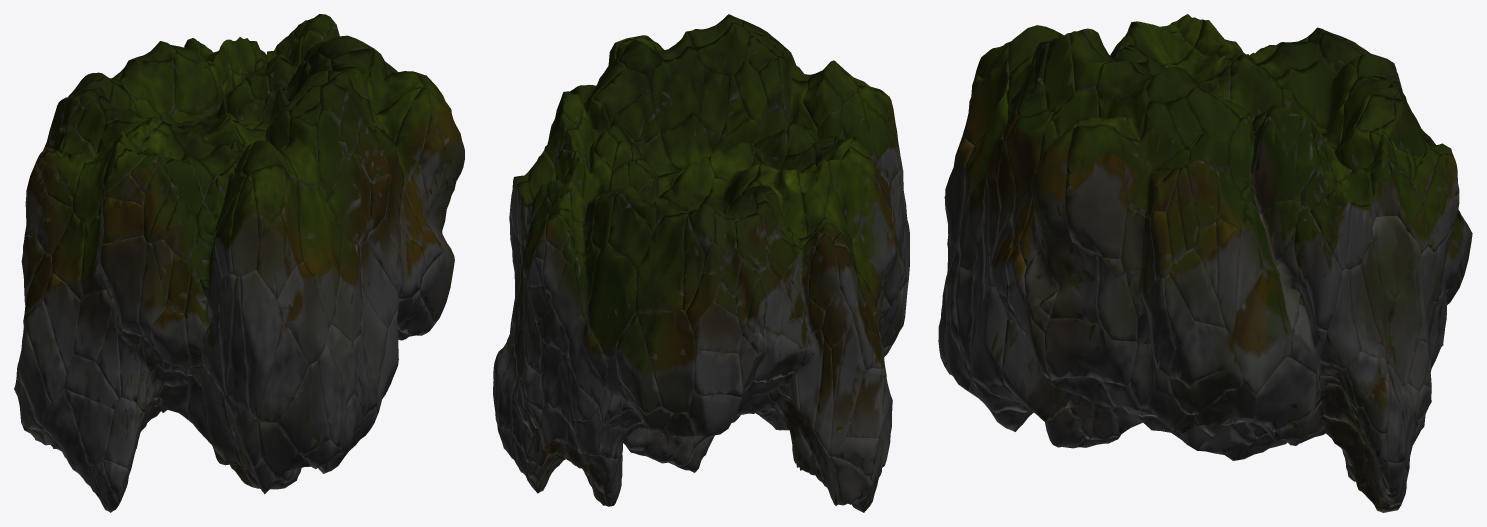
File: generic_island_6.fbx
3 renders of one model, left to right at view 1: azimuth 30°, elevation 25°; view 2: azimuth 150°, elevation 25°; view 3: azimuth 270°, elevation 25°, orthographic. The views are drawn at different scales.
Parts seen in each view (by area): view 1: rock_cell.282, rock_cell.058, rock_cell.054, rock_cell.347, rock_cell.105, rock_cell.184, rock_cell.310, rock_cell.384, rock_cell.324, rock_cell.330, rock_cell.292, rock_cell.144 (+107 smaller); view 2: rock_cell.179, rock_cell.035, rock_cell.311, rock_cell.252, rock_cell.087, rock_cell.259, rock_cell.056, rock_cell.063, rock_cell.264, rock_cell.180, rock_cell.143, rock_cell.358 (+113 smaller); view 3: rock_cell.216, rock_cell.319, rock_cell.280, rock_cell.018, rock_cell.380, rock_cell.348, rock_cell.401, rock_cell.329, rock_cell.110, rock_cell.016, rock_cell.209, rock_cell.011 (+100 smaller).
Part boxes in pixels (box(x1,y1,x2,y2)): rock_cell.282: box(240, 269, 281, 416); rock_cell.058: box(299, 182, 341, 327); rock_cell.054: box(99, 235, 146, 336); rock_cell.347: box(277, 261, 328, 364); rock_cell.105: box(327, 153, 371, 245); rock_cell.184: box(256, 321, 308, 422); rock_cell.310: box(420, 113, 454, 266); rock_cell.384: box(331, 235, 362, 341); rock_cell.324: box(120, 58, 174, 116); rock_cell.330: box(23, 299, 66, 401); rock_cell.292: box(230, 173, 258, 276); rock_cell.144: box(173, 51, 217, 113); rock_cell.179: box(637, 310, 695, 414); rock_cell.035: box(586, 242, 636, 359); rock_cell.311: box(636, 212, 688, 313); rock_cell.252: box(649, 46, 705, 131); rock_cell.087: box(615, 313, 662, 414); rock_cell.259: box(828, 318, 865, 457); rock_cell.056: box(829, 158, 878, 239); rock_cell.063: box(852, 205, 892, 308); rock_cell.264: box(568, 317, 608, 407); rock_cell.180: box(693, 350, 742, 397); rock_cell.143: box(608, 193, 652, 270); rock_cell.358: box(846, 368, 885, 438); rock_cell.216: box(1065, 125, 1127, 258); rock_cell.319: box(1045, 318, 1137, 386); rock_cell.280: box(1232, 268, 1286, 396); rock_cell.018: box(1031, 129, 1072, 285); rock_cell.380: box(1294, 204, 1342, 331); rock_cell.348: box(1253, 357, 1316, 431); rock_cell.401: box(1275, 56, 1358, 128); rock_cell.329: box(1240, 116, 1300, 214); rock_cell.110: box(1169, 320, 1235, 387); rock_cell.016: box(1050, 242, 1100, 326); rock_cell.209: box(969, 286, 1007, 387); rock_cell.011: box(1096, 254, 1137, 341).
Bounding box in the file's own units: 2654 × 2886 × 2885.
1 material, 1 textured.
